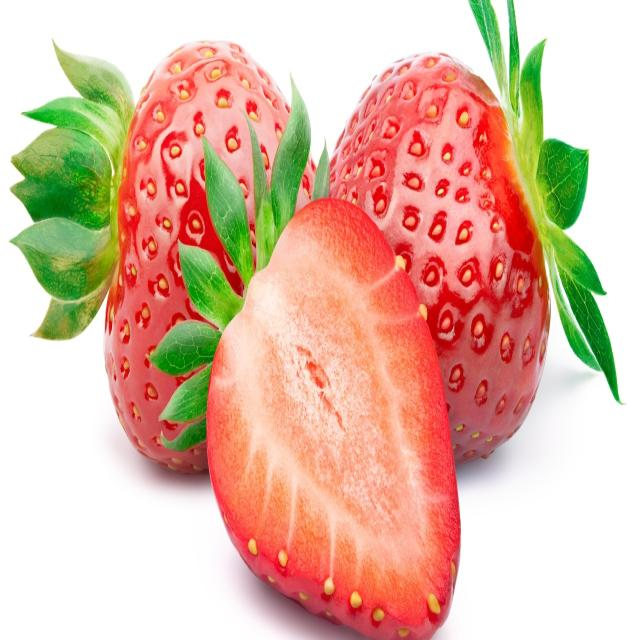Quả dâu tây: (103, 38, 317, 475), (327, 50, 551, 465)
